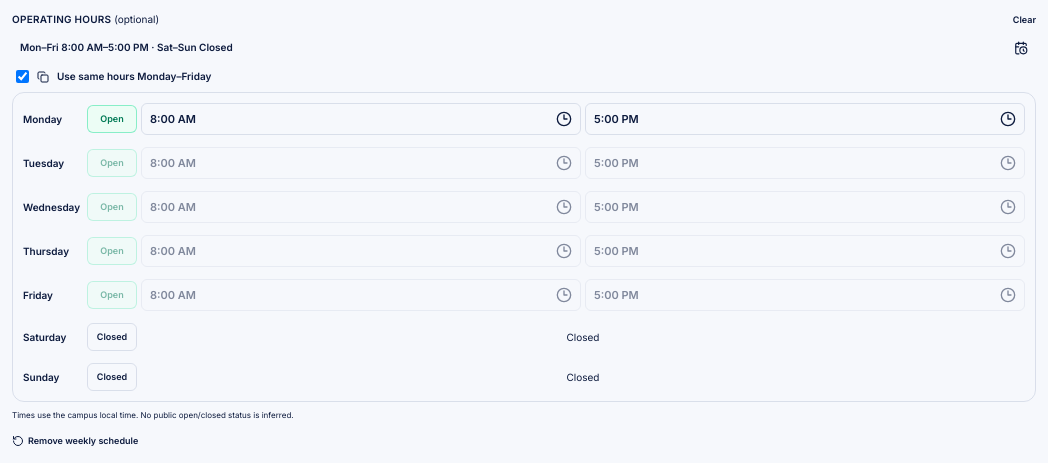
Test: BuildingWeeklyHoursEditor › lets the admin turn off the same-weekday shortcut
This screenshot has width=1048, height=463.
What coordinates should you click on to do the following:
click the checkbox labelled "Use same hours Monday–Friday"
I would click on:
 (22, 76)
Its box is 16,70 -> 29,83.
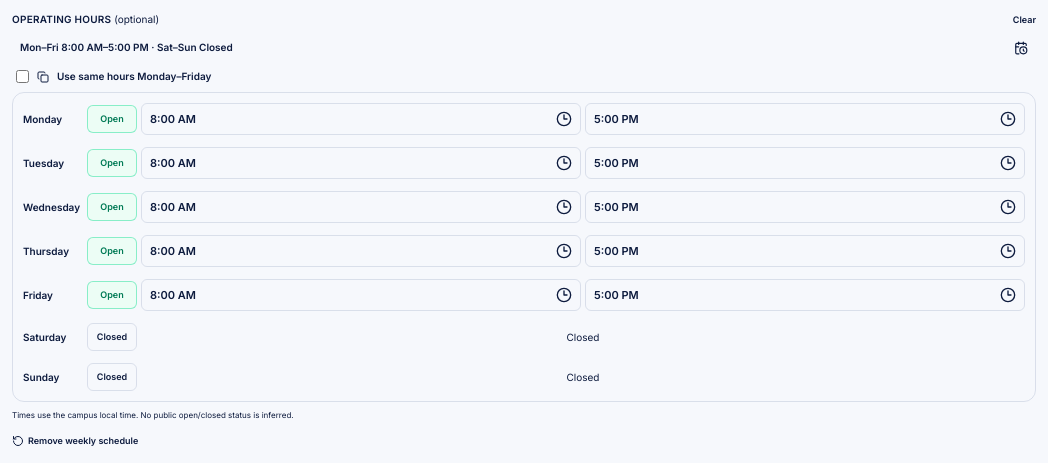
Expected: the button with aria-label "Tuesday opening time:" is enabled, 141,147 -> 581,179
